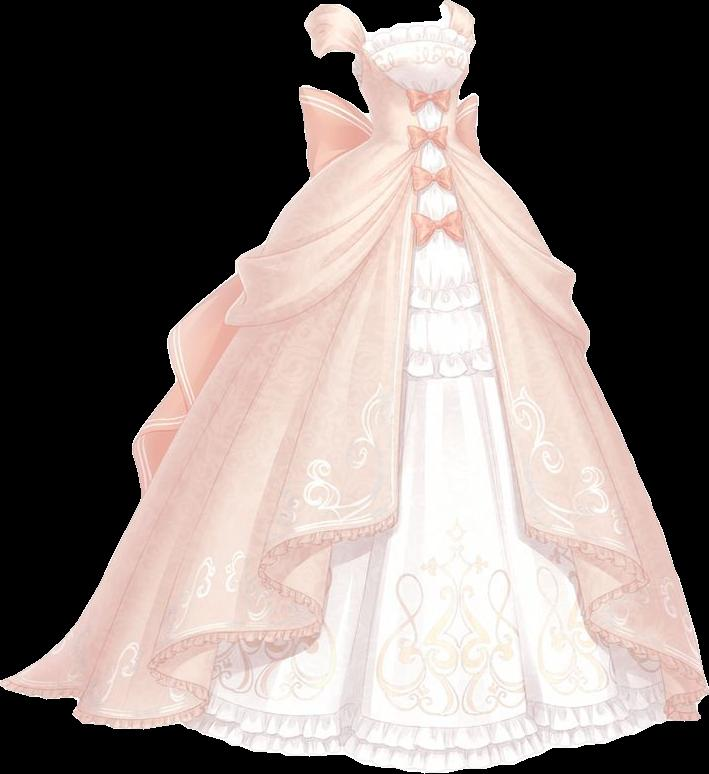Bodice: (352, 18, 475, 142)
Hemline: (0, 141, 433, 735), (438, 146, 708, 731), (169, 145, 428, 335), (186, 708, 681, 773), (436, 143, 588, 346), (407, 358, 495, 379), (409, 296, 484, 313)
Neckline: (359, 47, 472, 144), (359, 16, 465, 44)
Skirt: (0, 130, 708, 771)
Sleeve: (304, 4, 367, 59)
Sleeveline: (350, 28, 370, 57)
Waistline: (368, 127, 457, 148)
